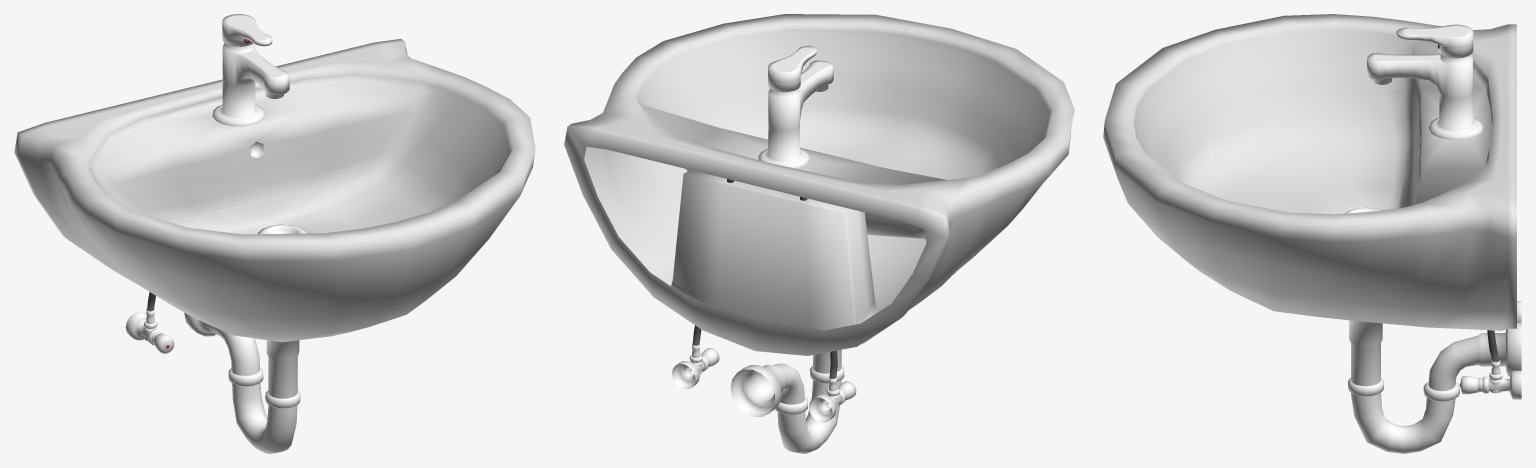
File: unseen_bathroom_sink.glb
3 views of the same model, side by side, from view 1: azimuth 30°, elevation 25°; view 2: azimuth 150°, elevation 25°; view 3: azimuth 270°, elevation 25° (orthographic). The views are drawn at different scales.
Parts seen in each view (by area): view 1: 1stFlr_Bathroom_Sink_Core, 1stFlr_Bathrooms_Sink_FaucetValve; view 2: 1stFlr_Bathroom_Sink_Core, 1stFlr_Bathrooms_Sink_FaucetValve; view 3: 1stFlr_Bathroom_Sink_Core, 1stFlr_Bathrooms_Sink_FaucetValve.
Boxes of the visible parts, box(x1,y1,x2,y2) form: 1stFlr_Bathroom_Sink_Core: box(14, 39, 535, 453); 1stFlr_Bathrooms_Sink_FaucetValve: box(222, 14, 272, 46); 1stFlr_Bathroom_Sink_Core: box(564, 14, 1074, 453); 1stFlr_Bathrooms_Sink_FaucetValve: box(768, 45, 816, 92); 1stFlr_Bathroom_Sink_Core: box(1103, 14, 1521, 453); 1stFlr_Bathrooms_Sink_FaucetValve: box(1396, 24, 1473, 58).
Bounding box in the file's own units: 61.09 × 56.67 × 51.1.
1 material, 1 textured.
